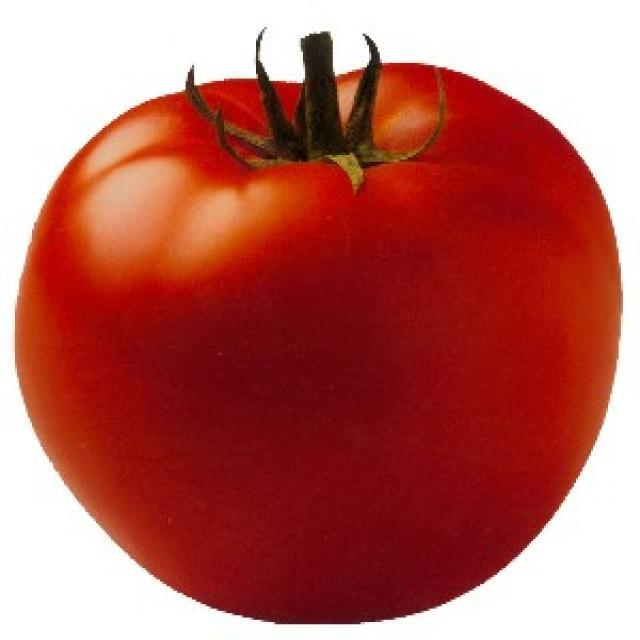Tomato: (6, 36, 640, 629)
